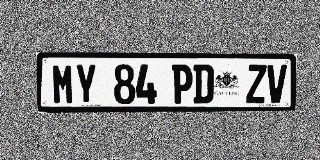4: (136, 64, 157, 104)
8: (114, 64, 135, 104)
D: (193, 64, 214, 104)
M: (52, 64, 75, 105)
P: (172, 64, 193, 104)
V: (266, 65, 287, 103)
Y: (75, 64, 97, 104)
Z: (246, 65, 267, 103)
